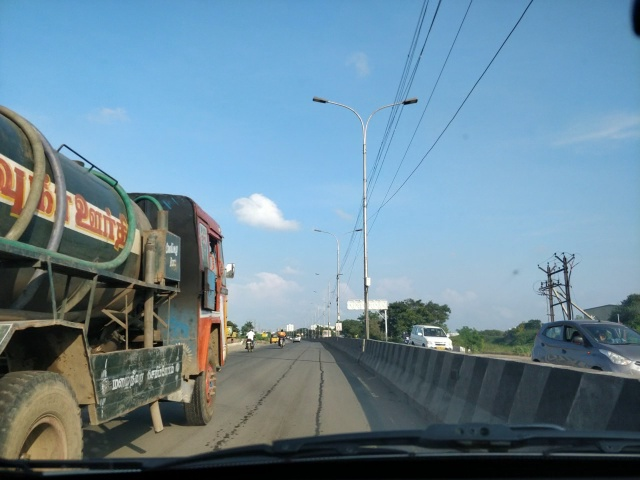car: (538, 317, 636, 369), (407, 321, 456, 350)
motorbike: (240, 325, 258, 351), (276, 327, 288, 349)
truck: (0, 99, 232, 456)
